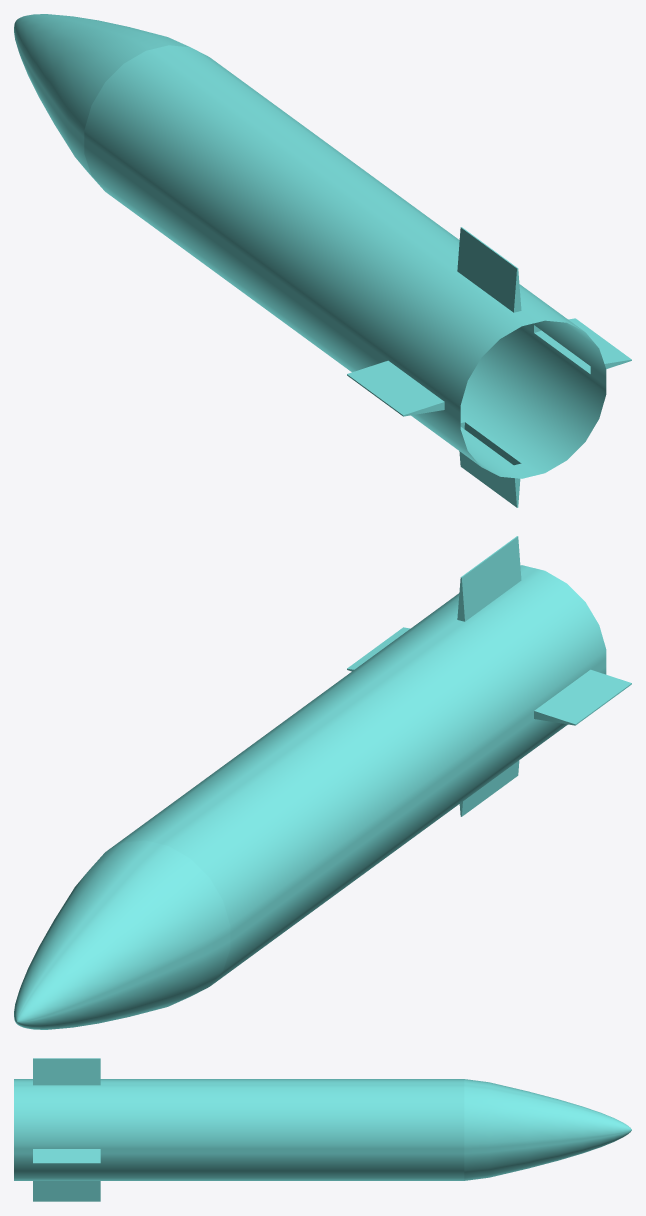
File: rocket.glb
3 views of the same model, one above another, from view 1: azimuth 30°, elevation 25°; view 2: azimuth 150°, elevation 25°; view 3: azimuth 270°, elevation 25° (orthographic). The views are drawn at different scales.
Visible parts, largest first — view 1: Cylinder; view 2: Cylinder; view 3: Cylinder.
Boxes of the visible parts, bbox=[...] form: Cylinder: bbox=[14, 14, 631, 507]; Cylinder: bbox=[14, 536, 631, 1029]; Cylinder: bbox=[14, 1058, 631, 1201].
Size of the model in its own units: 1.34 by 1.34 by 5.22.
